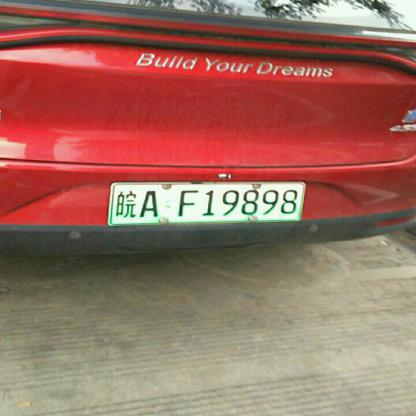lp: (110, 181, 305, 223)
